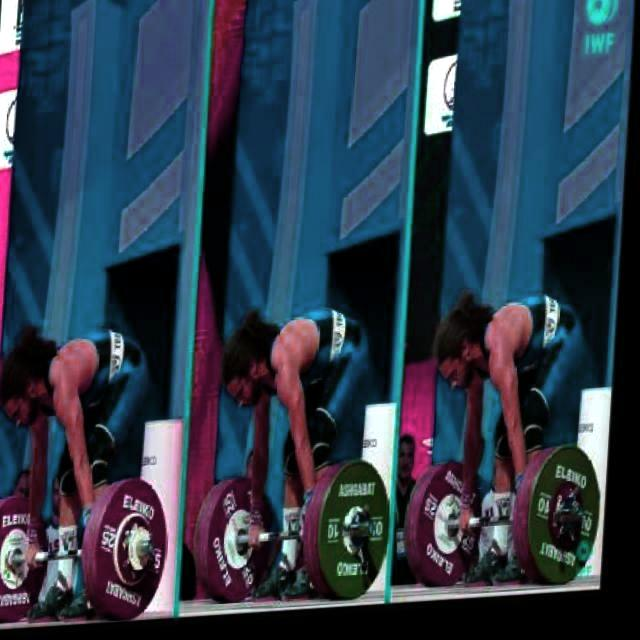barbell: (100, 474, 182, 627), (529, 449, 612, 597), (320, 459, 400, 610)
